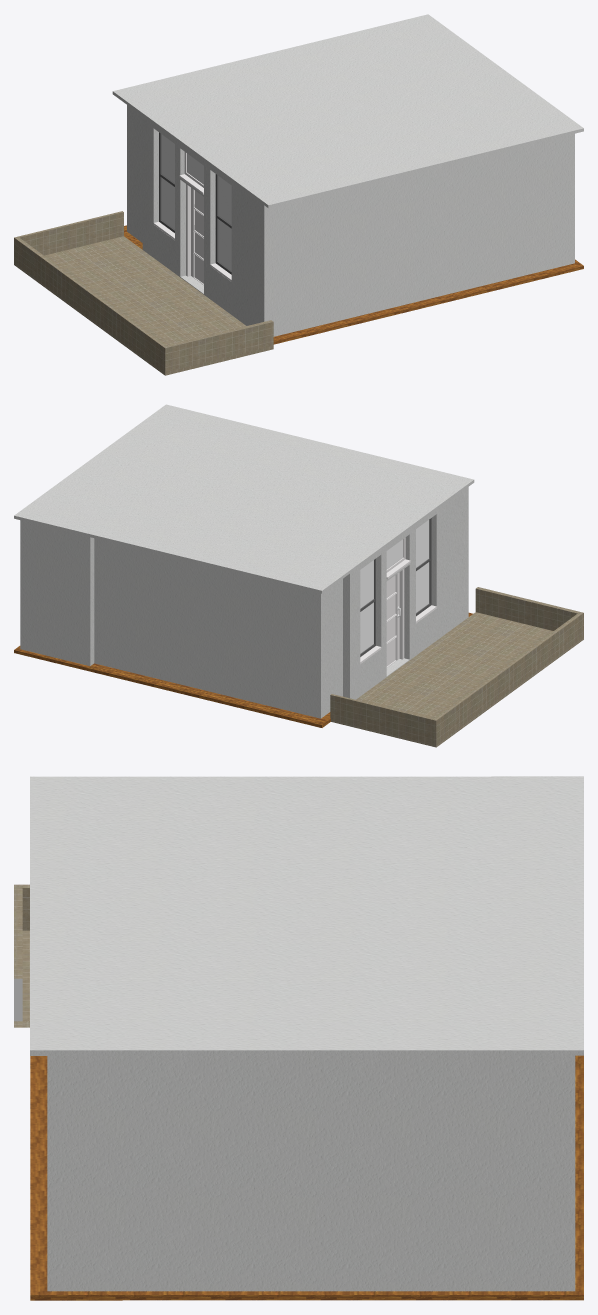
The model's file is FloorPlan229_physics.fbx.
3 views of the same model, one above another, from view 1: azimuth 30°, elevation 25°; view 2: azimuth 150°, elevation 25°; view 3: azimuth 270°, elevation 25° (orthographic). The views are drawn at different scales.
Parts seen in each view (by area): view 1: FP229:Room.020, FP229:Cube.1210, FP229:Cube.1226, FP229:Floor, FP229:polySurface4, FP229:polySurface9, FP229:polySurface19, FP229:polySurface5, FP229:polySurface13; view 2: FP229:Room.020, FP229:Cube.1210, FP229:Cube.1226, FP229:Floor, FP229:polySurface9, FP229:polySurface4, FP229:polySurface19, FP229:polySurface14, FP229:DoorFrame.013, FP229:polySurface13, FP229:polySurface5; view 3: FP229:Cube.1210, FP229:Room.020, FP229:Floor, FP229:Cube.1226.
Boxes of the visible parts, x1,y1,x2,y2 form: FP229:Room.020: [127, 105, 574, 336]; FP229:Cube.1210: [112, 14, 583, 208]; FP229:Cube.1226: [14, 211, 273, 375]; FP229:Floor: [124, 225, 583, 344]; FP229:polySurface4: [218, 176, 231, 270]; FP229:polySurface9: [161, 134, 174, 229]; FP229:polySurface19: [194, 190, 203, 283]; FP229:polySurface5: [210, 174, 231, 281]; FP229:polySurface13: [153, 132, 174, 240]; FP229:Room.020: [20, 487, 468, 718]; FP229:Cube.1210: [14, 404, 474, 593]; FP229:Cube.1226: [330, 587, 583, 747]; FP229:Floor: [14, 612, 472, 727]; FP229:polySurface9: [360, 560, 373, 653]; FP229:polySurface4: [416, 520, 428, 612]; FP229:polySurface19: [386, 575, 395, 666]; FP229:polySurface14: [386, 572, 399, 667]; FP229:DoorFrame.013: [399, 569, 404, 659]; FP229:polySurface13: [360, 558, 381, 663]; FP229:polySurface5: [416, 518, 436, 623]; FP229:Cube.1210: [30, 776, 583, 1055]; FP229:Room.020: [47, 1055, 575, 1291]; FP229:Floor: [30, 1055, 583, 1300]; FP229:Cube.1226: [14, 884, 29, 1027].
Size of the model in its own units: 912 by 292 by 598.
